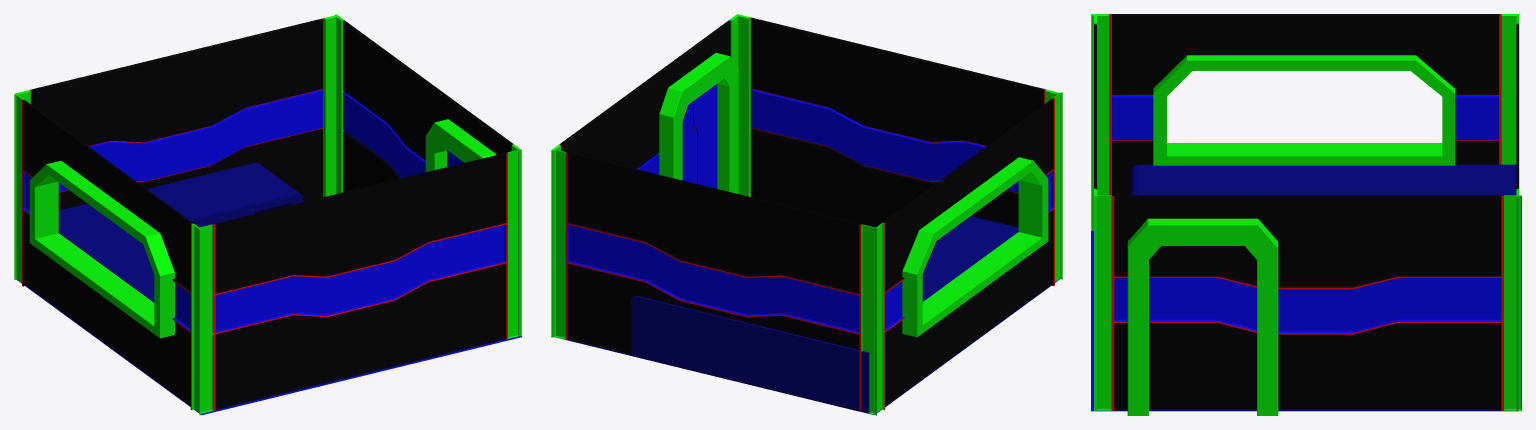
The model's file is EngineerRoom_Layout.fbx.
3 renders of one model, left to right at view 1: azimuth 30°, elevation 25°; view 2: azimuth 150°, elevation 25°; view 3: azimuth 270°, elevation 25°, orthographic. The views are drawn at different scales.
Parts seen in each view (by area): view 1: Desk.003; view 2: Desk.003; view 3: Desk.003.
Boxes of the visible parts, left/top/right/bottom form: Desk.003: left=14, top=14, right=522, bottom=415; Desk.003: left=551, top=14, right=1062, bottom=415; Desk.003: left=1091, top=14, right=1521, bottom=415.
Bounding box in the file's own units: 453 × 252 × 483.
